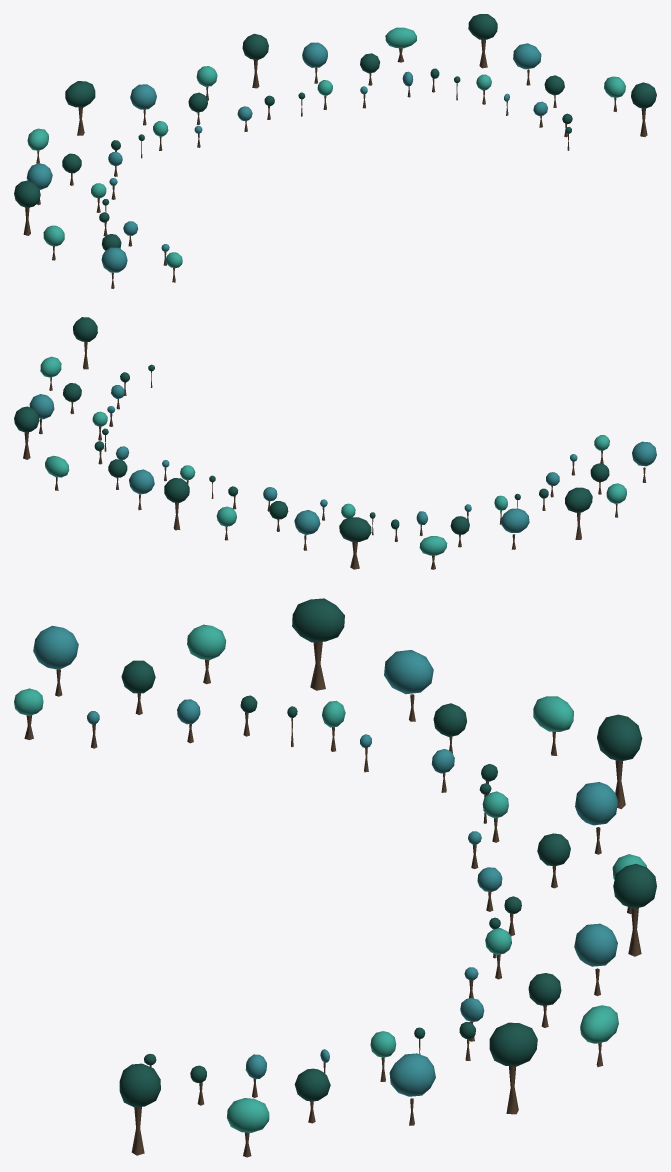
The model's file is bgTrees.glb.
3 renders of one model, top to bottom at view 1: azimuth 30°, elevation 25°; view 2: azimuth 150°, elevation 25°; view 3: azimuth 270°, elevation 25°, orthographic. The views are drawn at different scales.
Visible parts, largest first — view 1: bgTrees; view 2: bgTrees; view 3: bgTrees.
Part boxes in pixels (box(x1,y1,x2,y2)): bgTrees: box(14, 14, 656, 288); bgTrees: box(14, 317, 656, 569); bgTrees: box(14, 598, 656, 1157).
Bounding box in the file's own units: 20.19 × 1.69 × 11.25.
